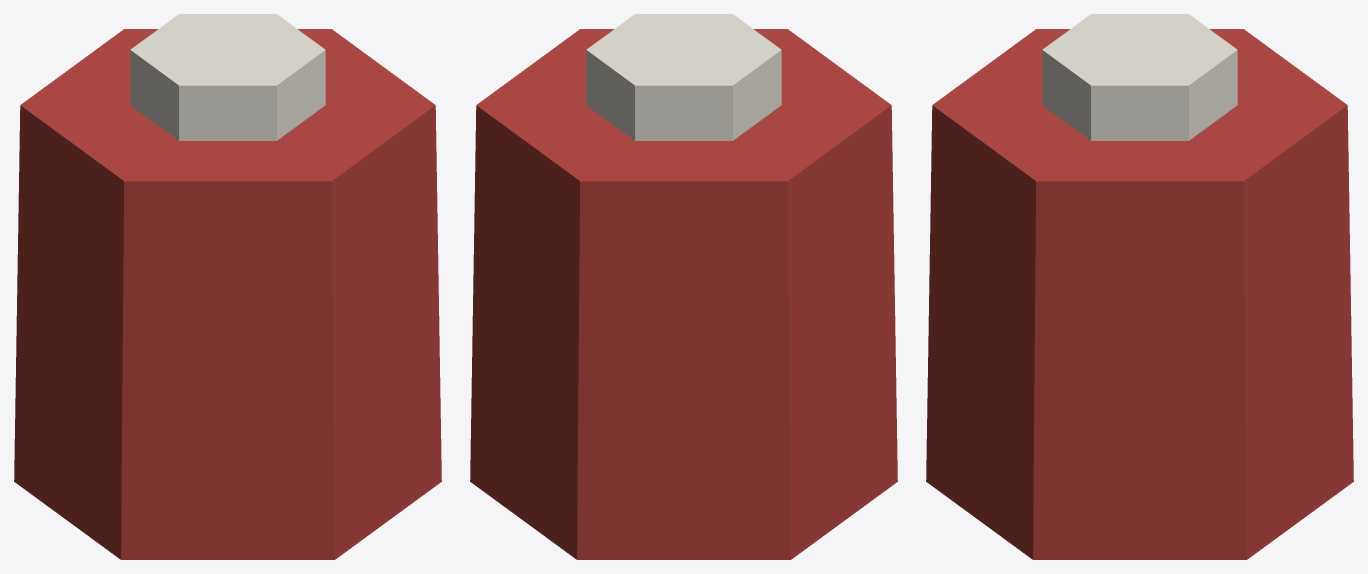
File: oil_lod2.glb
3 renders of one model, left to right at view 1: azimuth 30°, elevation 25°; view 2: azimuth 150°, elevation 25°; view 3: azimuth 270°, elevation 25°, orthographic.
Visible parts, largest first — view 1: oil_lod2; view 2: oil_lod2; view 3: oil_lod2.
Boxes of the visible parts, <box> form: oil_lod2: <box>14,14,441,559</box>; oil_lod2: <box>470,14,897,559</box>; oil_lod2: <box>926,14,1353,559</box>.
Size of the model in its own units: 0.0606 by 0.078 by 0.07.
